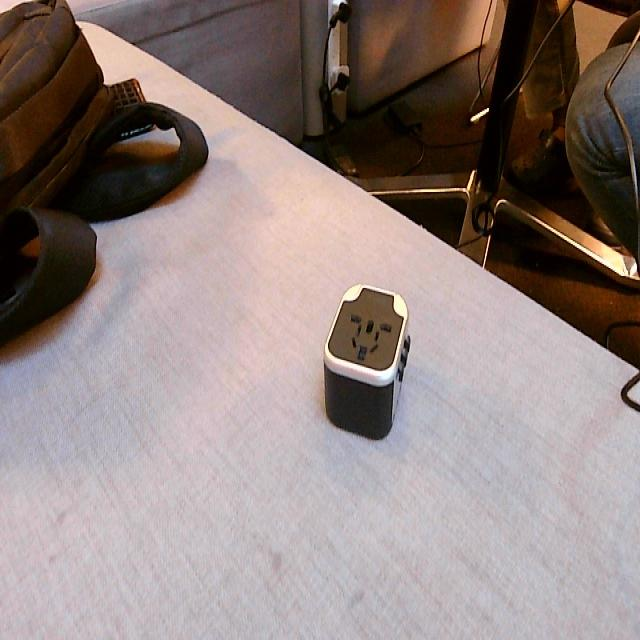adapter: (322, 281, 411, 440)
